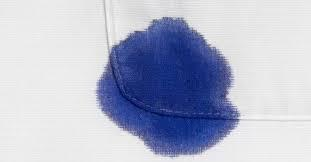ink: (112, 30, 229, 139)
